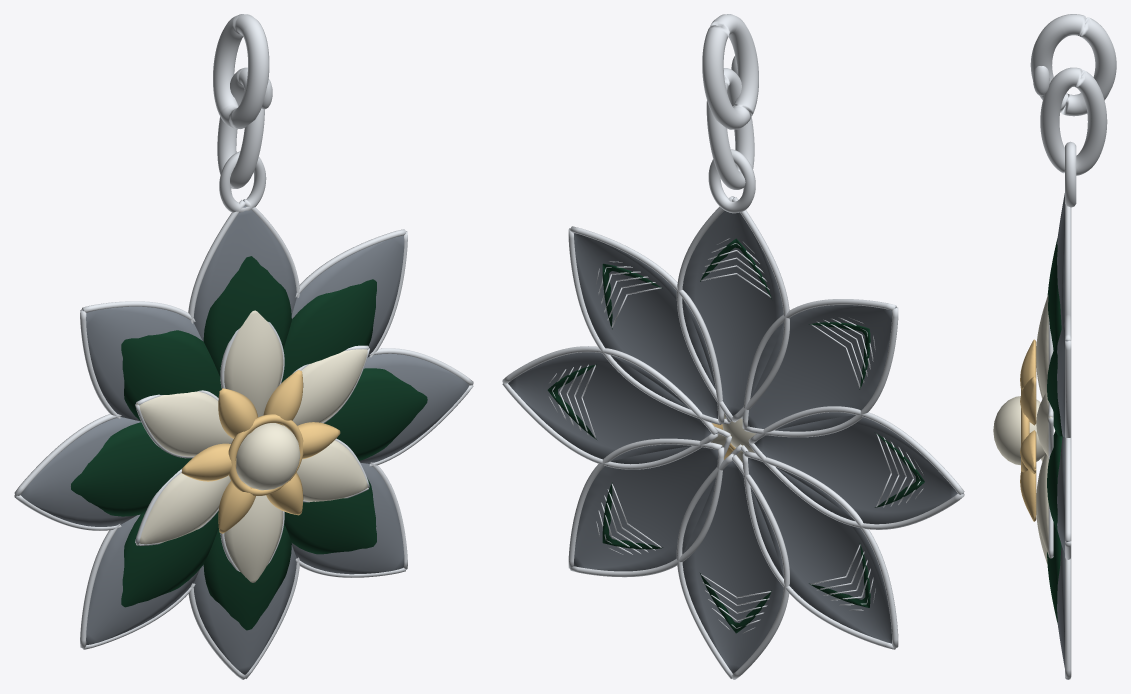
The model's file is emoria-sen.glb.
3 views of the same model, side by side, from view 1: azimuth 30°, elevation 25°; view 2: azimuth 150°, elevation 25°; view 3: azimuth 270°, elevation 25° (orthographic).
Visible parts, largest first — view 1: Jade enamel, Engraved silver, Pearl, Polished silver, Warm gold; view 2: Engraved silver, Polished silver, Jade enamel, Pearl; view 3: Polished silver, Pearl, Jade enamel, Engraved silver, Warm gold.
Part boxes in pixels (<box>): Jade enamel: <box>71,256,427,630</box>; Engraved silver: <box>16,201,469,674</box>; Pearl: <box>136,310,367,582</box>; Polished silver: <box>14,14,473,679</box>; Warm gold: <box>181,370,340,533</box>; Engraved silver: <box>508,197,963,673</box>; Polished silver: <box>502,14,964,679</box>; Jade enamel: <box>547,238,924,633</box>; Pearl: <box>710,413,756,462</box>; Polished silver: <box>1030,14,1116,679</box>; Pearl: <box>993,295,1051,564</box>; Jade enamel: <box>1047,238,1062,622</box>; Engraved silver: <box>1057,193,1069,667</box>; Warm gold: <box>1020,339,1036,521</box>.
Size of the model in its own units: 0.0262 by 0.036 by 0.00612.
